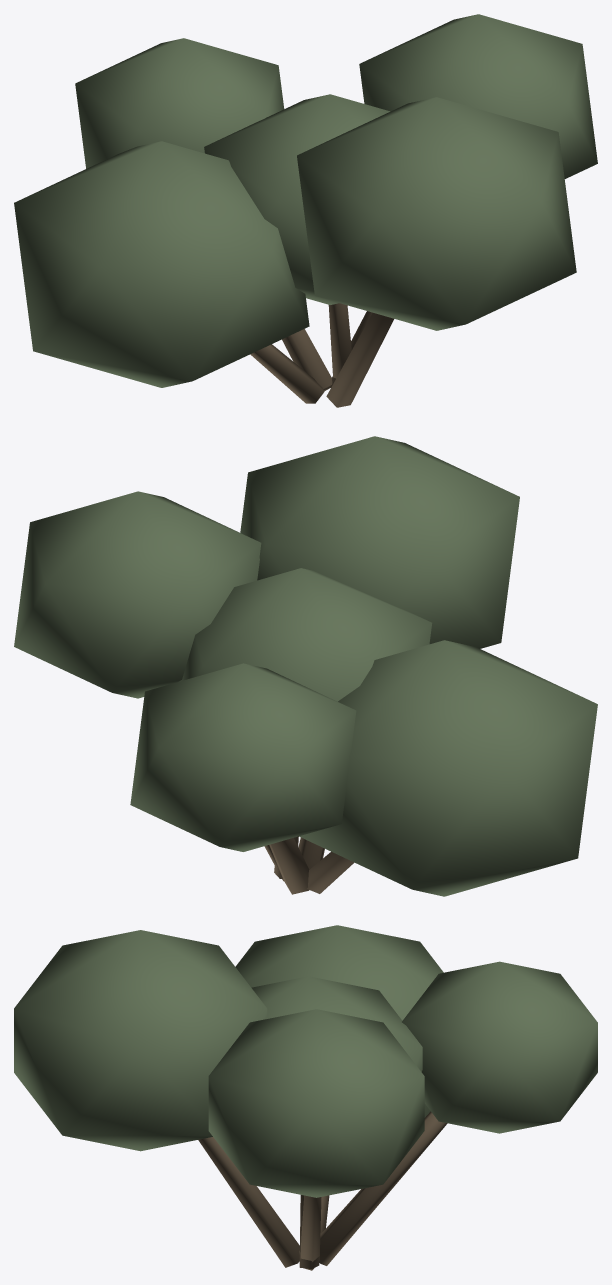
The model's file is bush_alpine_low.glb.
The picture shows the model from 3 angles, top to bottom: view 1: azimuth 30°, elevation 25°; view 2: azimuth 150°, elevation 25°; view 3: azimuth 270°, elevation 25°; orthographic projection. The views are drawn at different scales.
Parts seen in each view (by area): view 1: bush_alpine_low; view 2: bush_alpine_low; view 3: bush_alpine_low.
Boxes of the visible parts, x1,y1,x2,y2 form: bush_alpine_low: [14, 14, 597, 407]; bush_alpine_low: [14, 436, 597, 896]; bush_alpine_low: [14, 925, 597, 1270].
Bounding box in the file's own units: 1.05 × 0.6794 × 1.04.
